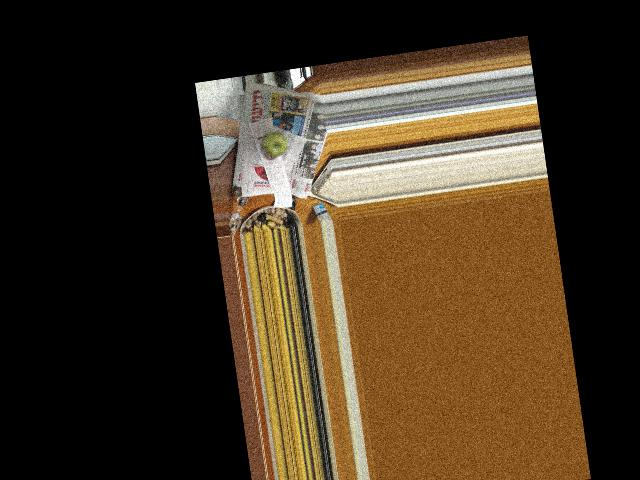apple: (260, 126, 290, 159)
